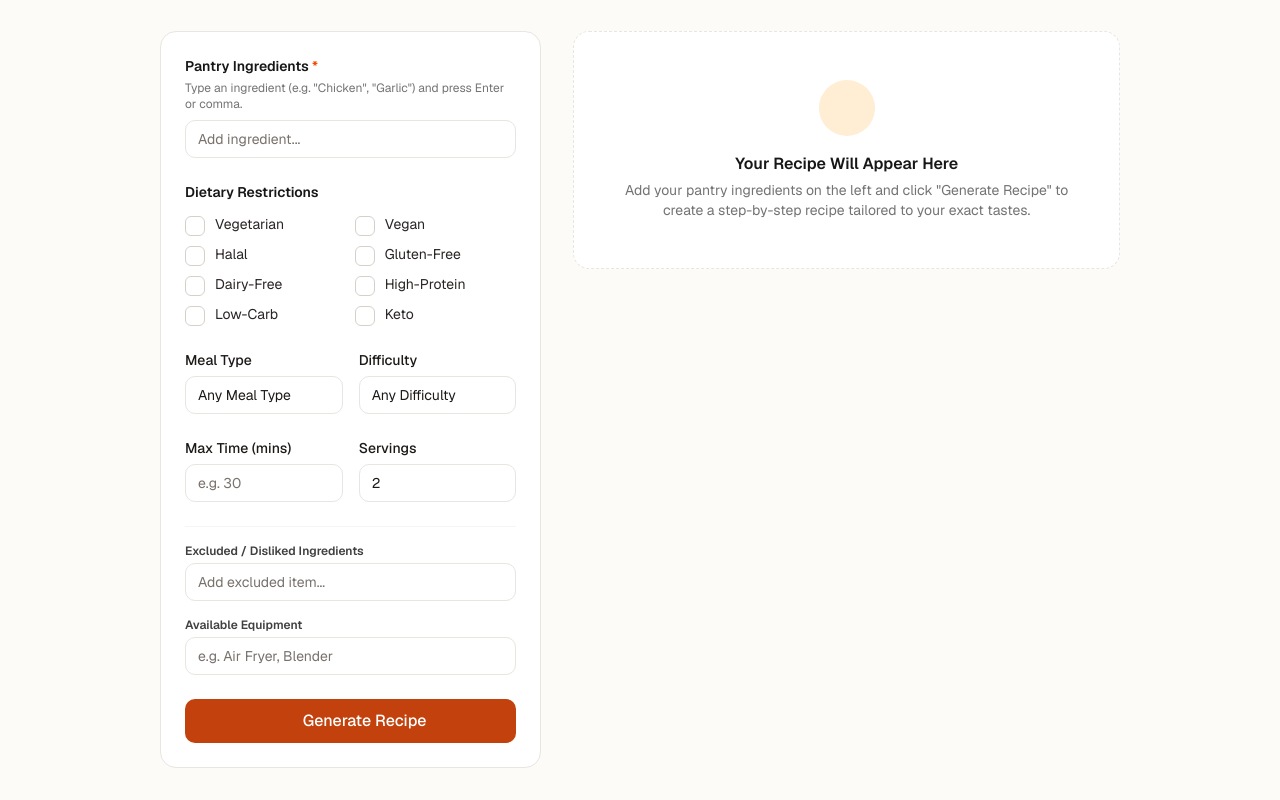
Test: Frontend Form & Component: GeneratorPage › shows validation error when attempting to generate with empty ingredients
This screenshot has width=1280, height=800.
(page scrolled)
Click the button "Generate Recipe" at (351, 721), box [185,699,516,743]
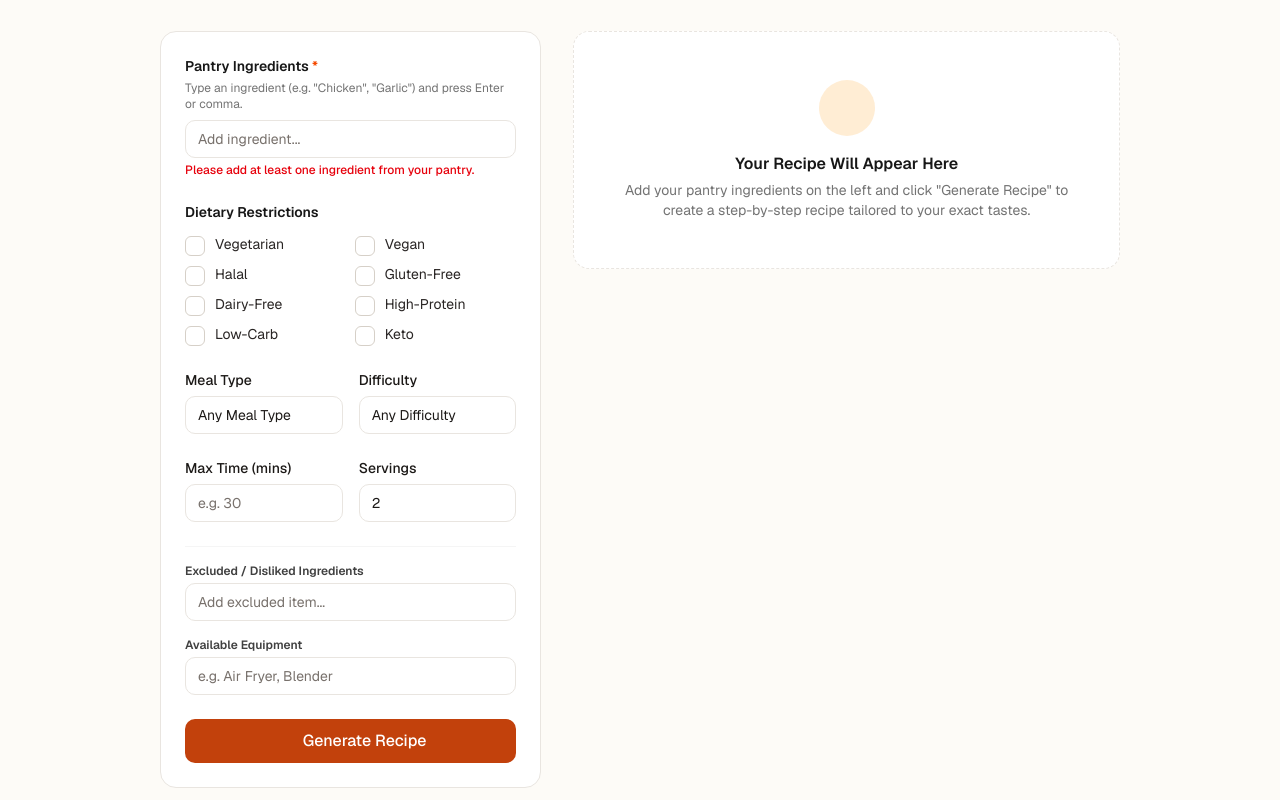
Check: the text "Please add at least one ingredient from your pantry." is shown, box [185,162,516,178]
